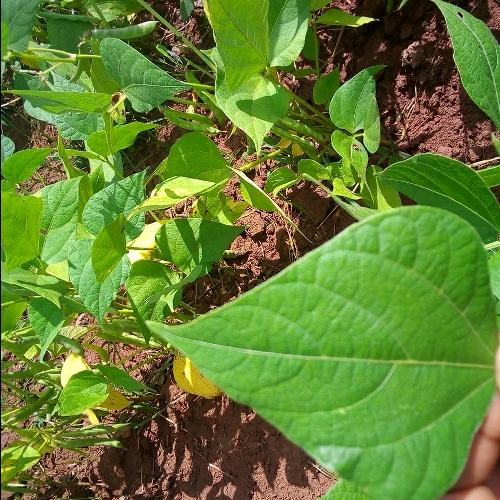sehat: (158, 205, 497, 496)
